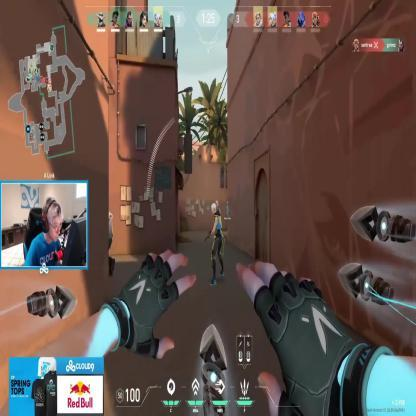enemy: (203, 198, 224, 286), (102, 206, 117, 278)
enemy_head: (210, 202, 218, 214)
